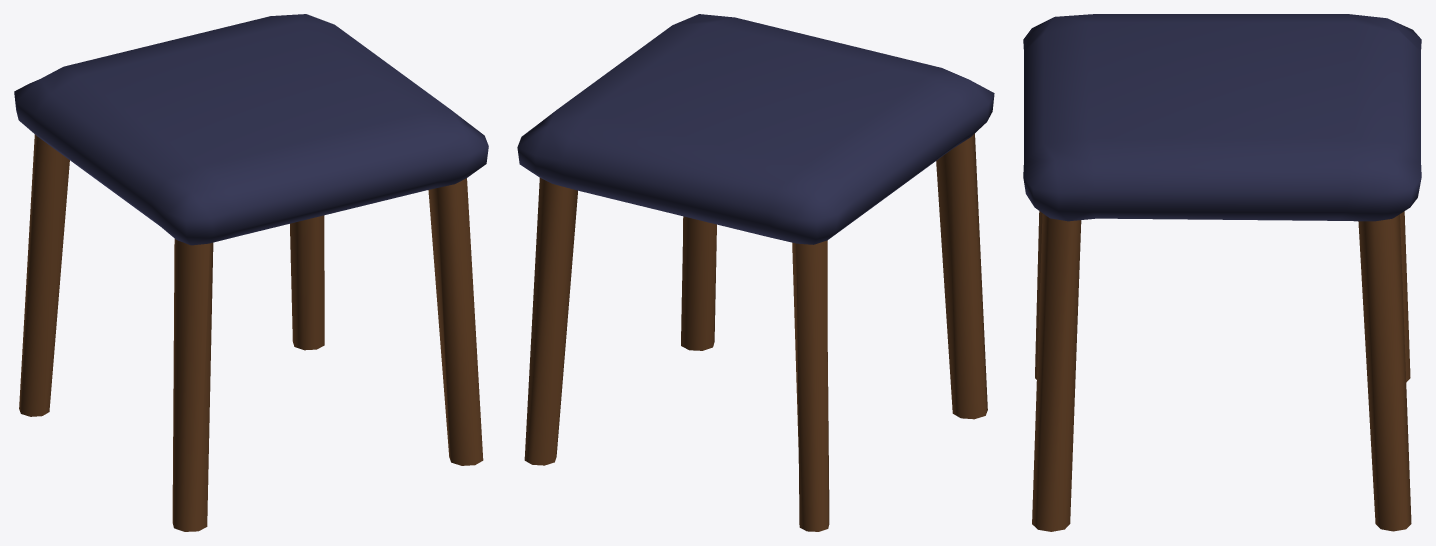
File: stool.fbx
The picture shows the model from 3 angles, left to right: view 1: azimuth 30°, elevation 25°; view 2: azimuth 150°, elevation 25°; view 3: azimuth 270°, elevation 25°; orthographic projection. The views are drawn at different scales.
Parts seen in each view (by area): view 1: Box001; view 2: Box001; view 3: Box001.
Part boxes in pixels (x1,y1,x2,y2): Box001: (14,14,488,531); Box001: (517,14,994,531); Box001: (1023,14,1421,531).
Bounding box in the file's own units: 23.89 × 24.48 × 23.89.
